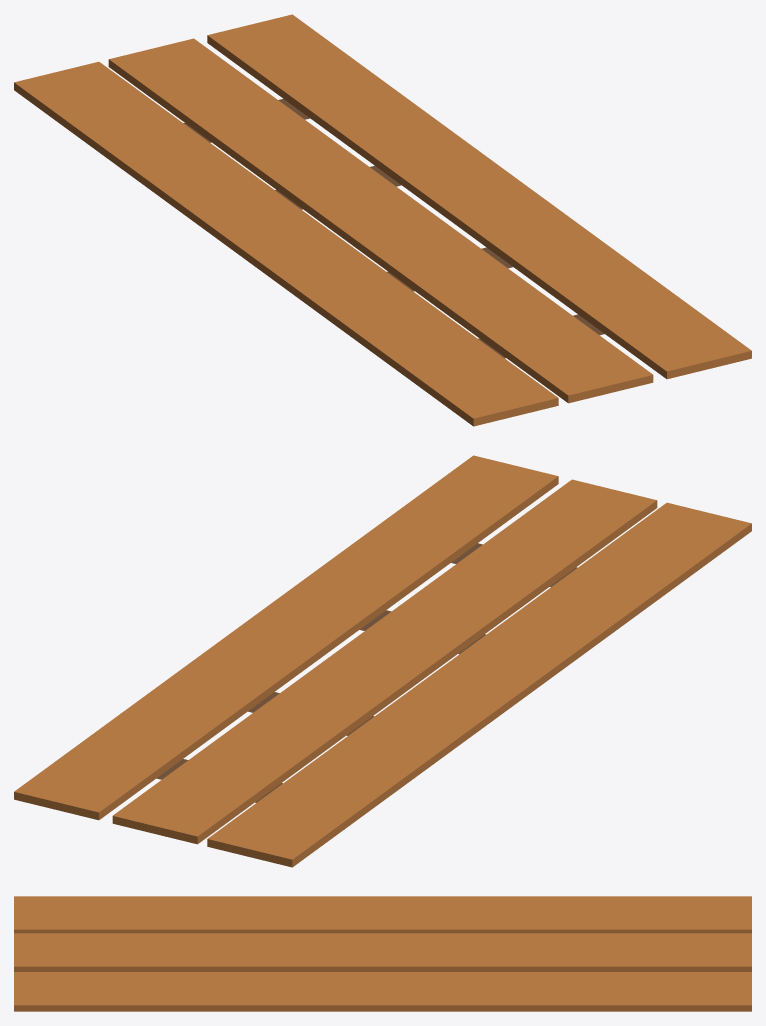
The model's file is ita.fbx.
3 views of the same model, one above another, from view 1: azimuth 30°, elevation 25°; view 2: azimuth 150°, elevation 25°; view 3: azimuth 270°, elevation 25° (orthographic). The views are drawn at different scales.
Visible parts, largest first — view 1: Cube; view 2: Cube; view 3: Cube.
Part boxes in pixels (x1,y1,x2,y2): Cube: (14,14,751,426); Cube: (14,455,751,867); Cube: (14,896,751,1011).
Size of the model in its own units: 305 by 17.9 by 872.
